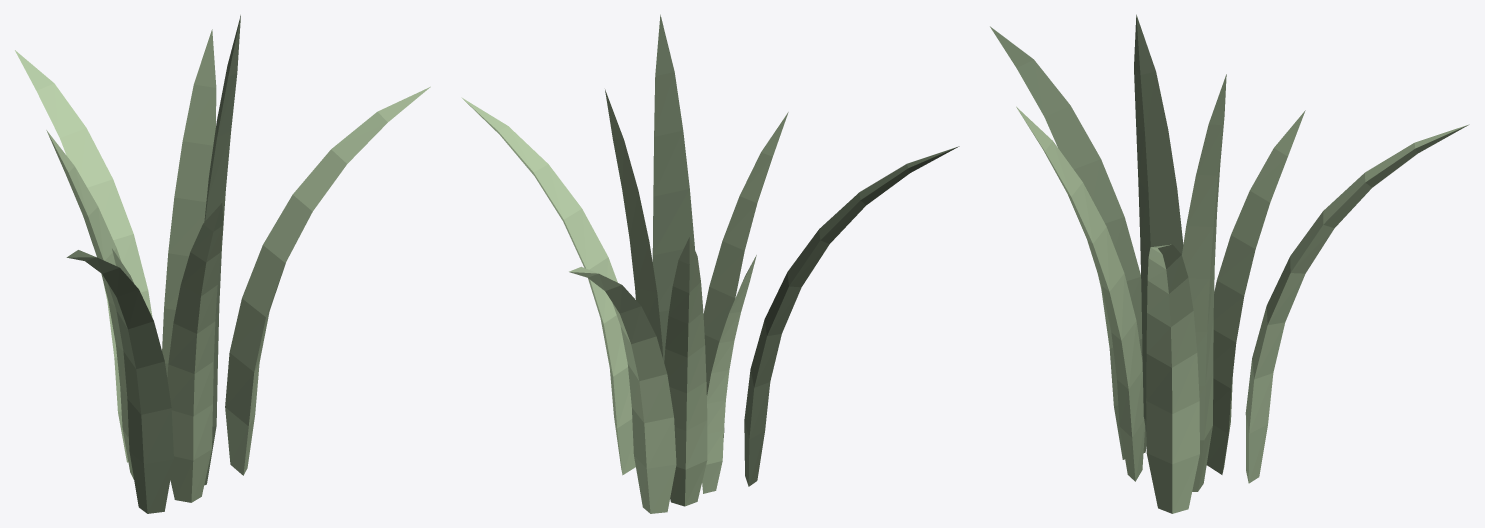
Rendered from grass-tuft-a40a08.glb.
The picture shows the model from 3 angles, left to right: view 1: azimuth 30°, elevation 25°; view 2: azimuth 150°, elevation 25°; view 3: azimuth 270°, elevation 25°; orthographic projection. The views are drawn at different scales.
Parts seen in each view (by area): view 1: grass-tuft-mesh; view 2: grass-tuft-mesh; view 3: grass-tuft-mesh.
Boxes of the visible parts, left/top/right/bottom form: grass-tuft-mesh: left=15, top=15, right=430, bottom=513; grass-tuft-mesh: left=461, top=14, right=959, bottom=513; grass-tuft-mesh: left=990, top=14, right=1469, bottom=513.
Bounding box in the file's own units: 0.344 × 0.3477 × 0.3109.
